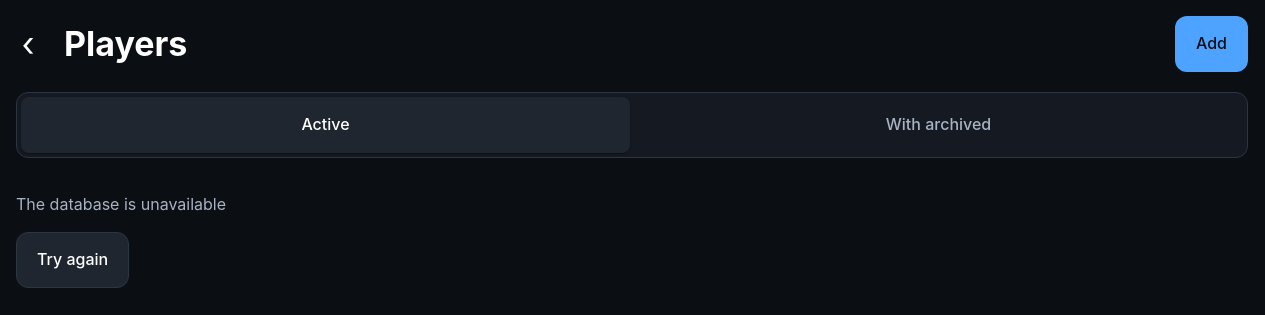
Test case: the list › offers a way back when the Pi will not answer
expect the message shows "database is unavailable": met, box [16, 194, 226, 214]
Click the button "Try again". click: (73,260)
box: [16, 232, 129, 288]
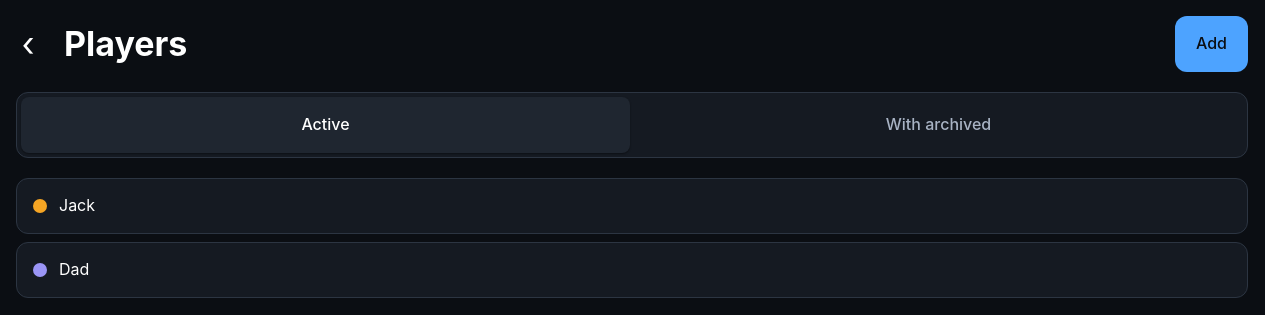
expect the button "Jack" is shown: met, box [16, 178, 1248, 234]
